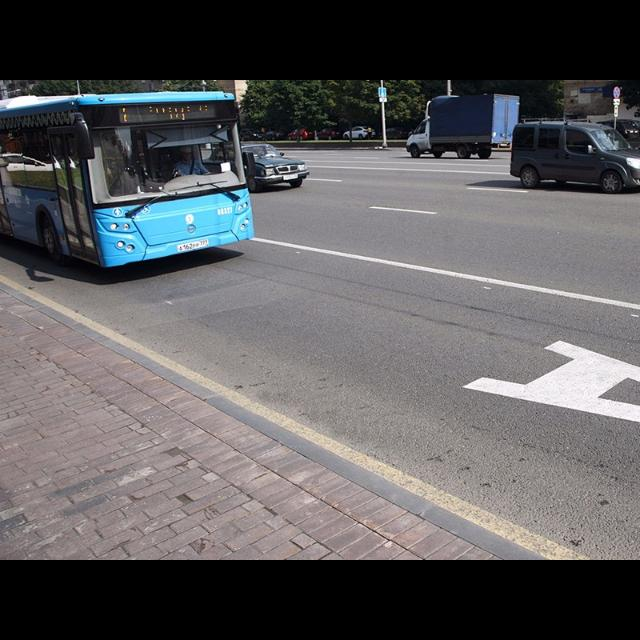road: (0, 149, 639, 559)
